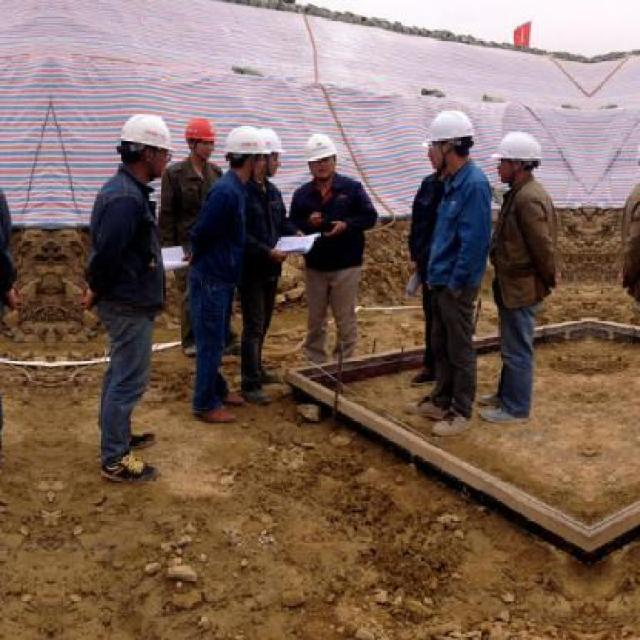helmet: (119, 112, 173, 152), (492, 126, 546, 166), (424, 108, 476, 144), (223, 121, 267, 158), (304, 136, 339, 164), (184, 117, 217, 142)
